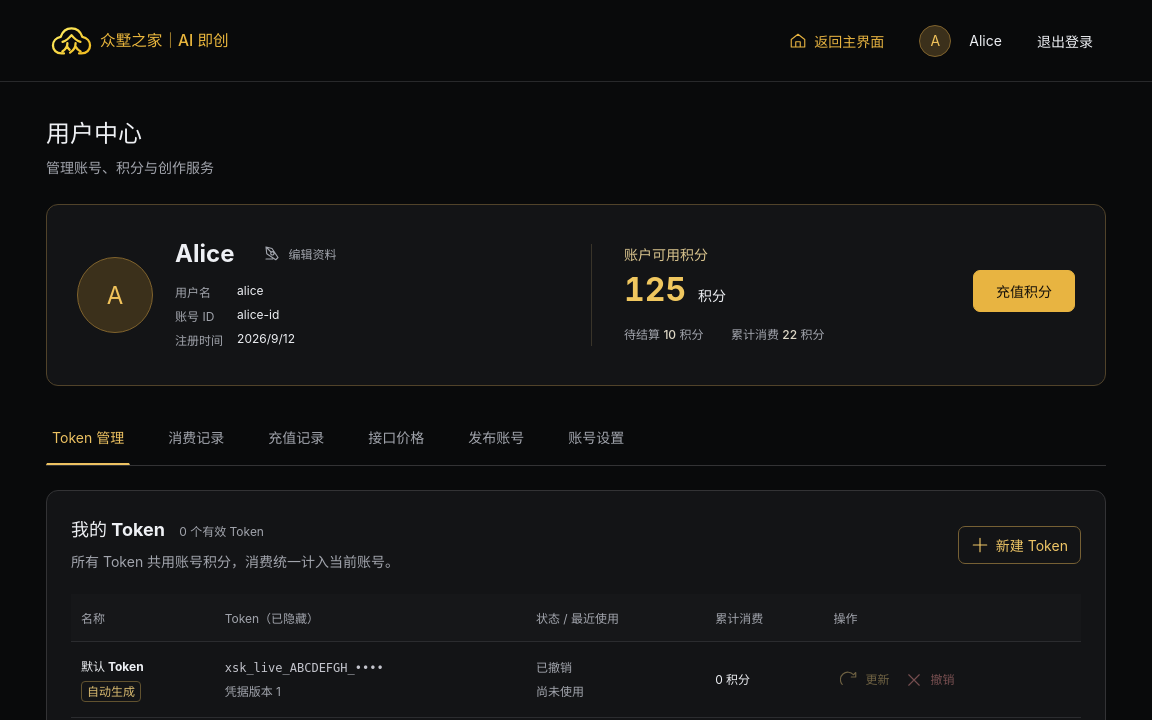
Test case: a revoked default is not re-created and order errors are not shown as empty history
This screenshot has width=1152, height=720.
expect the text "已撤销" is shown: met, box 536,660 -> 572,675
Step 1. Click the tab "充值记录" → coordinates (296, 438), box 262,410 -> 330,465
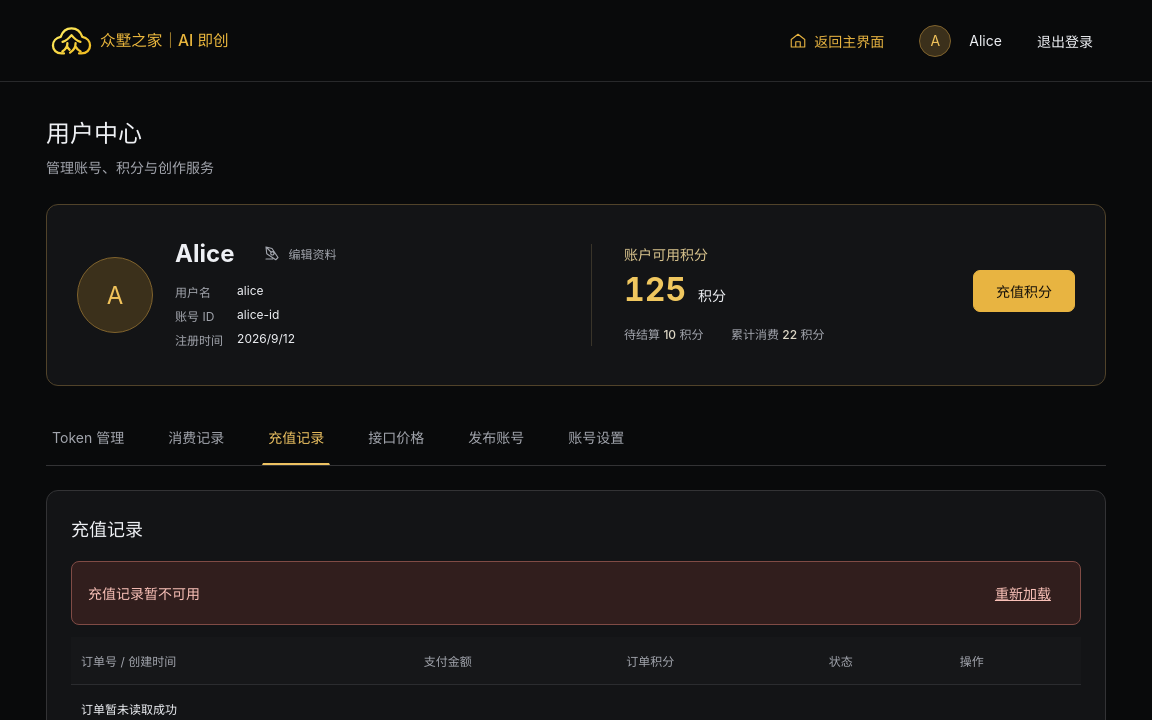
expect the message shows "充值记录暂不可用": met, box 88,585 -> 200,602
